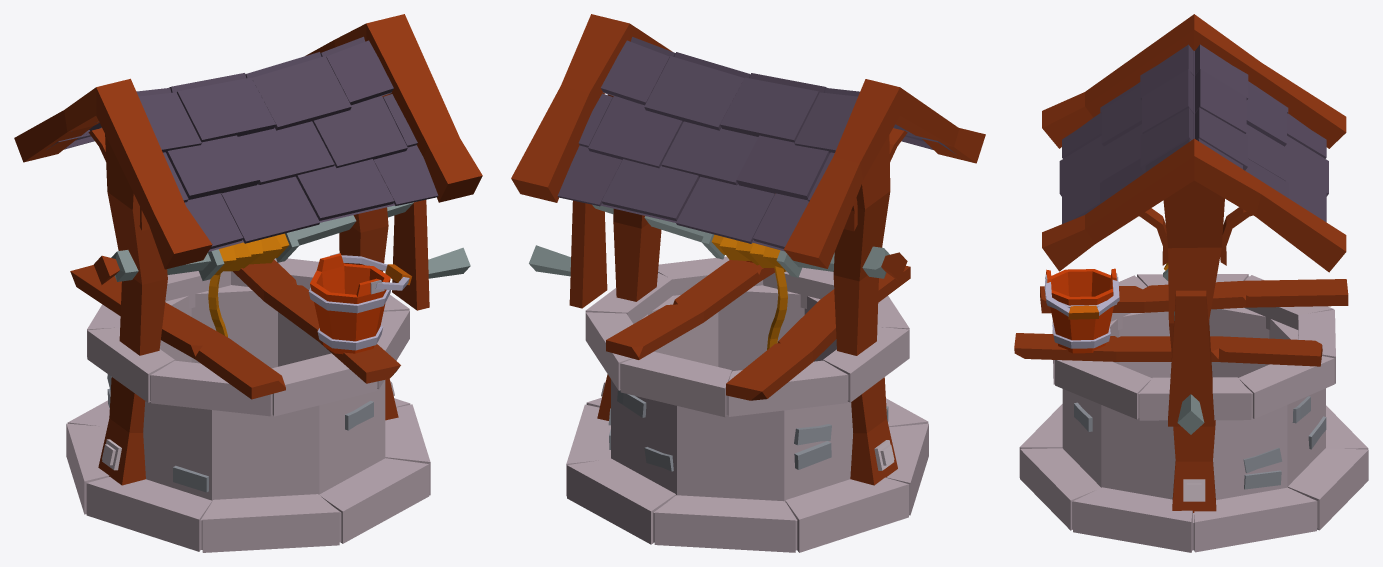
The model's file is fontaine-2.glb.
The picture shows the model from 3 angles, left to right: view 1: azimuth 30°, elevation 25°; view 2: azimuth 150°, elevation 25°; view 3: azimuth 270°, elevation 25°; orthographic projection. The views are drawn at different scales.
Parts seen in each view (by area): view 1: Cube_0; view 2: Cube_0; view 3: Cube_0.
Part boxes in pixels (<box>): Cube_0: <box>14,14,482,552</box>; Cube_0: <box>511,14,985,552</box>; Cube_0: <box>1014,14,1368,552</box>.
Bounding box in the file's own units: 5.61 × 6.09 × 4.93.
Materials: 1 (1 with a texture image).
